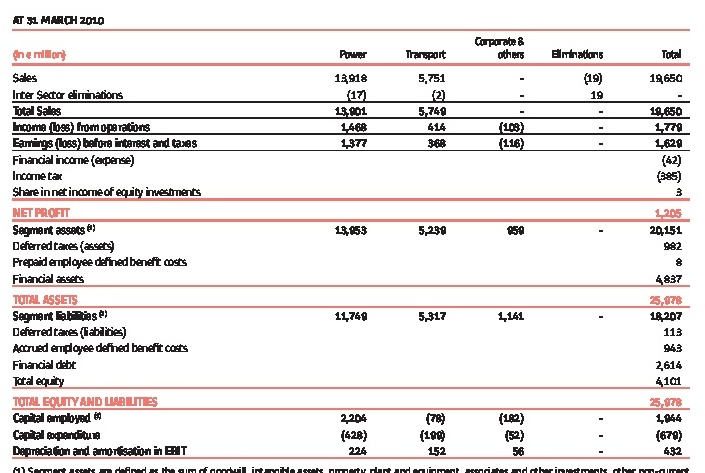table: (0, 0, 705, 473)
